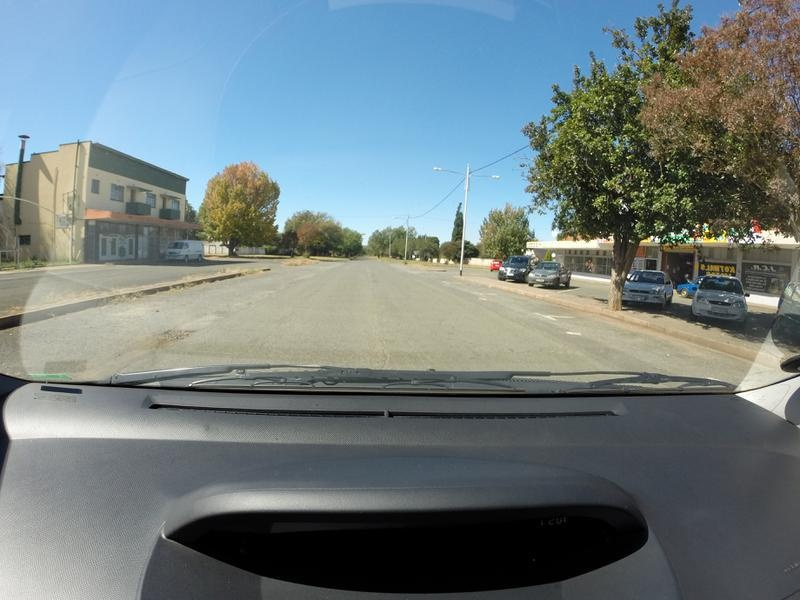pothole: (150, 324, 199, 352)
